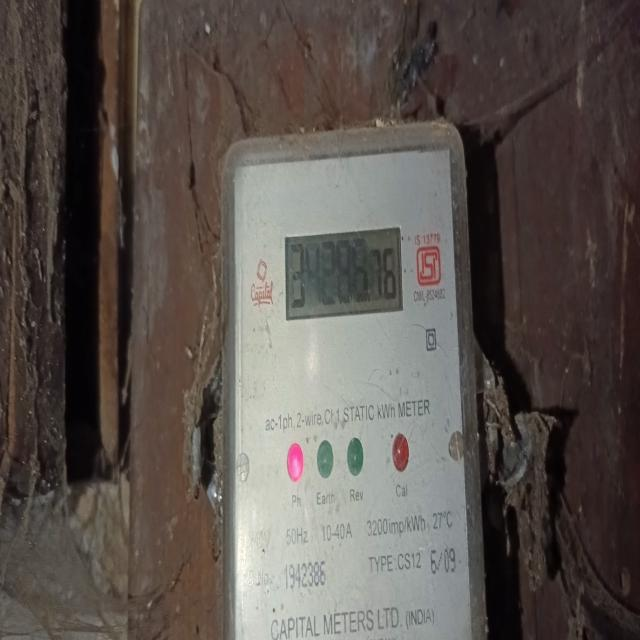display: (282, 230, 404, 319)
